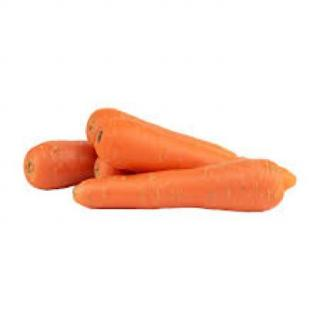Wortel: (71, 158, 299, 215), (83, 105, 240, 175), (22, 137, 104, 193)
